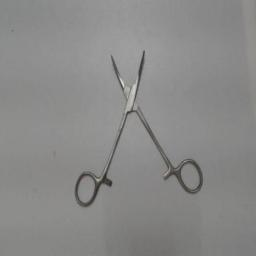Crile Artery Forceps: (70, 44, 206, 212)
